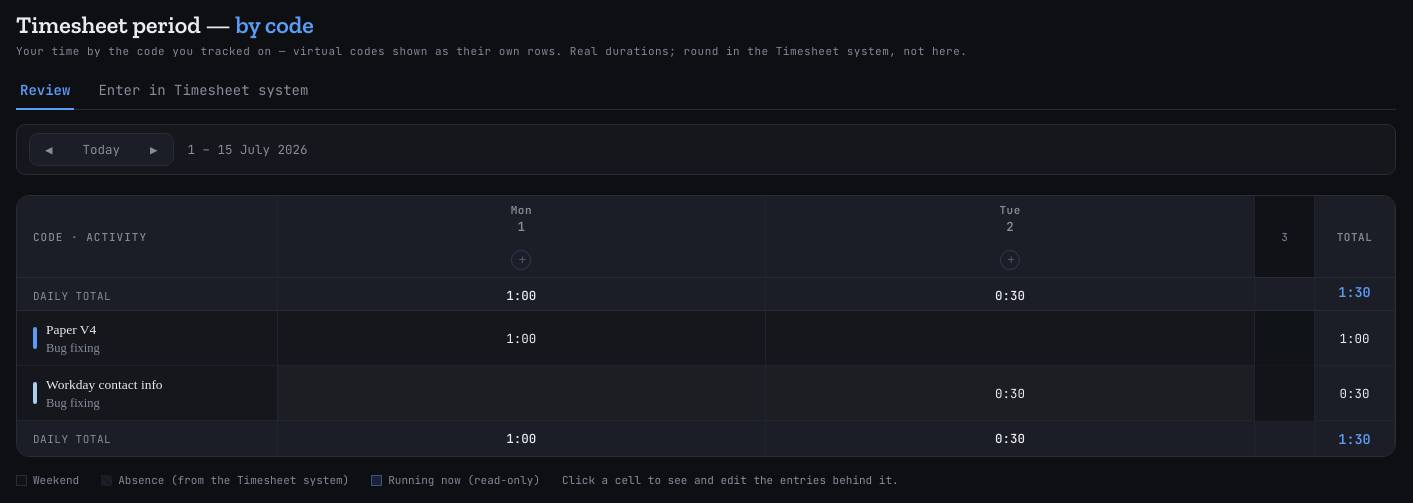
it: PeriodScreen — mode toggle › switches back to Review from Enter in Timesheet system
Click the button "Enter in Timesheet system".
click(203, 91)  # box [94,72,312,110]
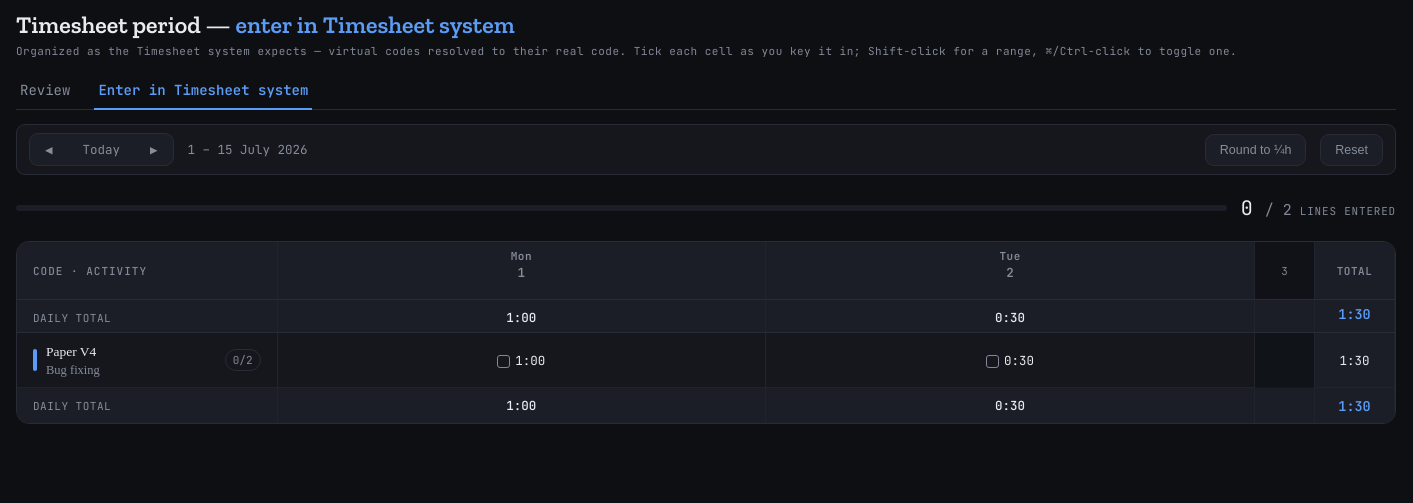
Click the button "Review".
click(45, 91)  # box [16,72,74,110]
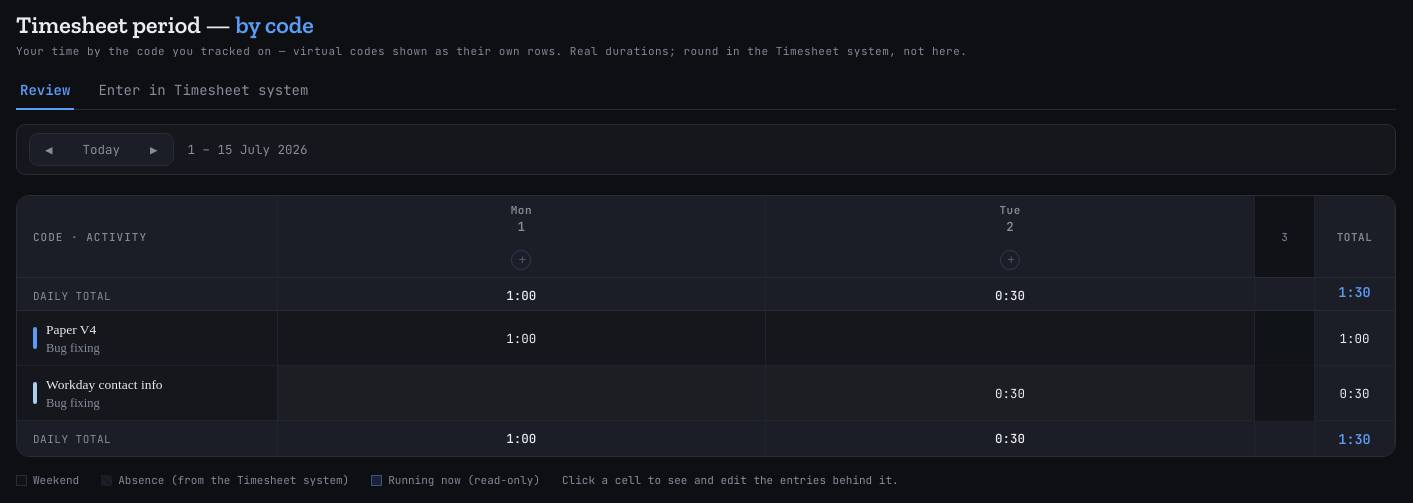
Expected: the button with test id "wk-period-add-1" is shown, [511,250,531,270]
Expected: the text "lines entered" is gone
